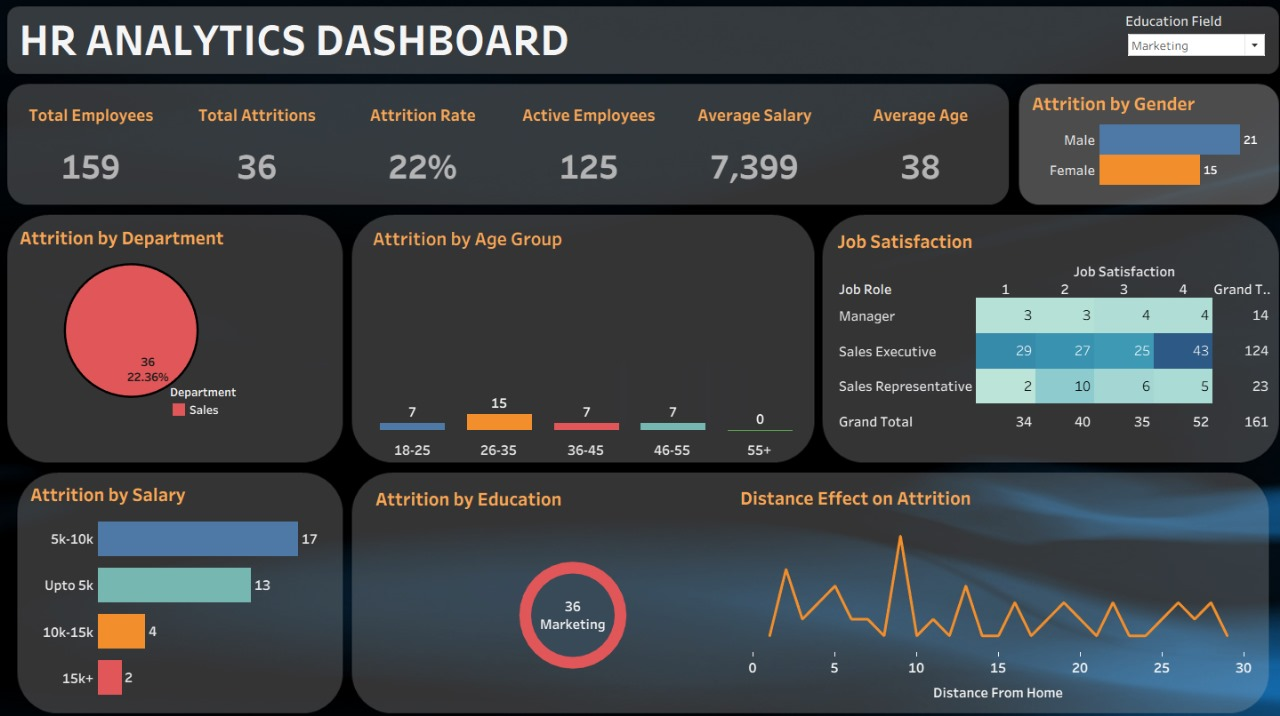

The dashboard page shown, as its layout file describes it:
{"tool":"tableau","page":{"name":"HR Analytics Dashboard","canvas":[1570,840],"ordinal":0},"visuals":[{"type":"image","param":"Image/Presentation1.png","box":[8,8,1554,824]},{"type":"text","box":[80,20,638,75]},{"type":"filter","title":"Attrition by department","param":"[federated.0clymvq1kvmcx419c5rgi10m3mon].[none:EducationField:nk]","box":[1327,28,160,62]},{"type":"worksheet","title":"Attrition By Gender","mark":"Automatic","rows":["Gender"],"cols":["Calculation_787567034253451264"],"box":[1218,113,276,129]},{"type":"worksheet","title":"KPI","mark":"Automatic","box":[71,116.2,1119,129.9]},{"type":"worksheet","title":"Attrition by department","mark":"Pie","box":[80,264,259,204]},{"type":"worksheet","title":"Attrition by Age Group","mark":"Automatic","rows":["Calculation_787567034253451264"],"cols":["AgeGroup"],"box":[477,265,488,263]},{"type":"worksheet","title":"Employee Rating","mark":"Square","rows":["JobRole"],"cols":["JobSatisfaction"],"box":[999,268,493,241]},{"type":"legend","title":"Attrition by department","param":"[federated.0clymvq1kvmcx419c5rgi10m3mon].[none:Department:nk]","box":[253,447.4,198,83]},{"type":"worksheet","title":"Attrition by Salary","mark":"Automatic","rows":["SalarySlab"],"cols":["Calculation_787567034253451264"],"box":[92,553,345,251]},{"type":"worksheet","title":"Distance from Home","mark":"Automatic","rows":["Calculation_787567034253451264"],"cols":["DistanceFromHome"],"box":[890,557.4,588,255]},{"type":"worksheet","title":"Attrition by Education","mark":"Pie","rows":["Calculation_787567034293968903","Calculation_787567034293968903"],"box":[480,558.4,452,256.9]},{"type":"legend","title":"Attrition by Education","param":"[federated.0clymvq1kvmcx419c5rgi10m3mon].[sum:Calculation_787567034253451264:qk]","box":[1013,558.4,140,87]}]}

Visuals, with their boxes on the page's 1570x840 design canvas (x1, y1, x2, y2). These are canvas units, not pixel positions in the 1280x716 screenshot, which may show the page scaled, cropped or inside an application window:
image: <region>8, 8, 1562, 832</region>
text: <region>80, 20, 718, 95</region>
"Attrition by department" filter: <region>1327, 28, 1487, 90</region>
"Attrition By Gender" worksheet: <region>1218, 113, 1494, 242</region>
"KPI" worksheet: <region>71, 116, 1190, 246</region>
"Attrition by department" worksheet (Pie marks): <region>80, 264, 339, 468</region>
"Attrition by Age Group" worksheet: <region>477, 265, 965, 528</region>
"Employee Rating" worksheet (Square marks): <region>999, 268, 1492, 509</region>
"Attrition by department" legend: <region>253, 447, 451, 530</region>
"Attrition by Salary" worksheet: <region>92, 553, 437, 804</region>
"Distance from Home" worksheet: <region>890, 557, 1478, 812</region>
"Attrition by Education" worksheet (Pie marks): <region>480, 558, 932, 815</region>
"Attrition by Education" legend: <region>1013, 558, 1153, 645</region>
